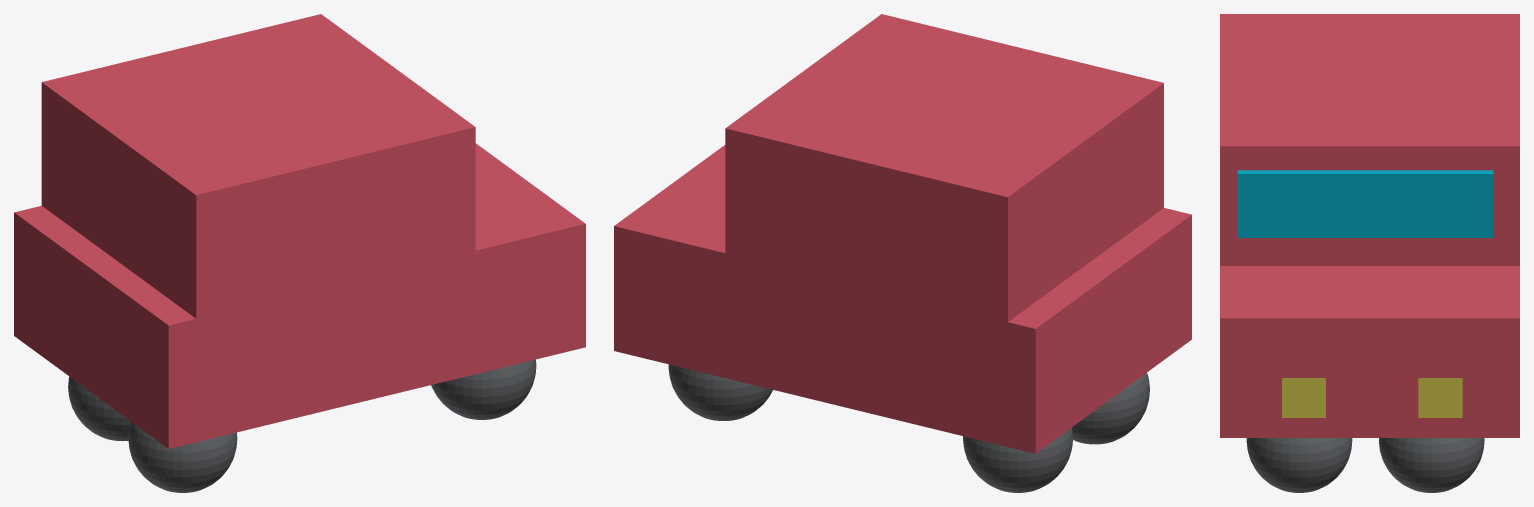
File: Car.glb
3 views of the same model, side by side, from view 1: azimuth 30°, elevation 25°; view 2: azimuth 150°, elevation 25°; view 3: azimuth 270°, elevation 25° (orthographic). The views are drawn at different scales.
Visible parts, largest first — view 1: Mesh_Mesh_head_geo.001_lambert2SG.001; view 2: Mesh_Mesh_head_geo.001_lambert2SG.001; view 3: Mesh_Mesh_head_geo.001_lambert2SG.001.
Part boxes in pixels (box(x1,y1,x2,y2)): Mesh_Mesh_head_geo.001_lambert2SG.001: box(14, 14, 585, 492); Mesh_Mesh_head_geo.001_lambert2SG.001: box(614, 14, 1191, 492); Mesh_Mesh_head_geo.001_lambert2SG.001: box(1220, 14, 1519, 492).
Size of the model in its own units: 54 by 40 by 34.
